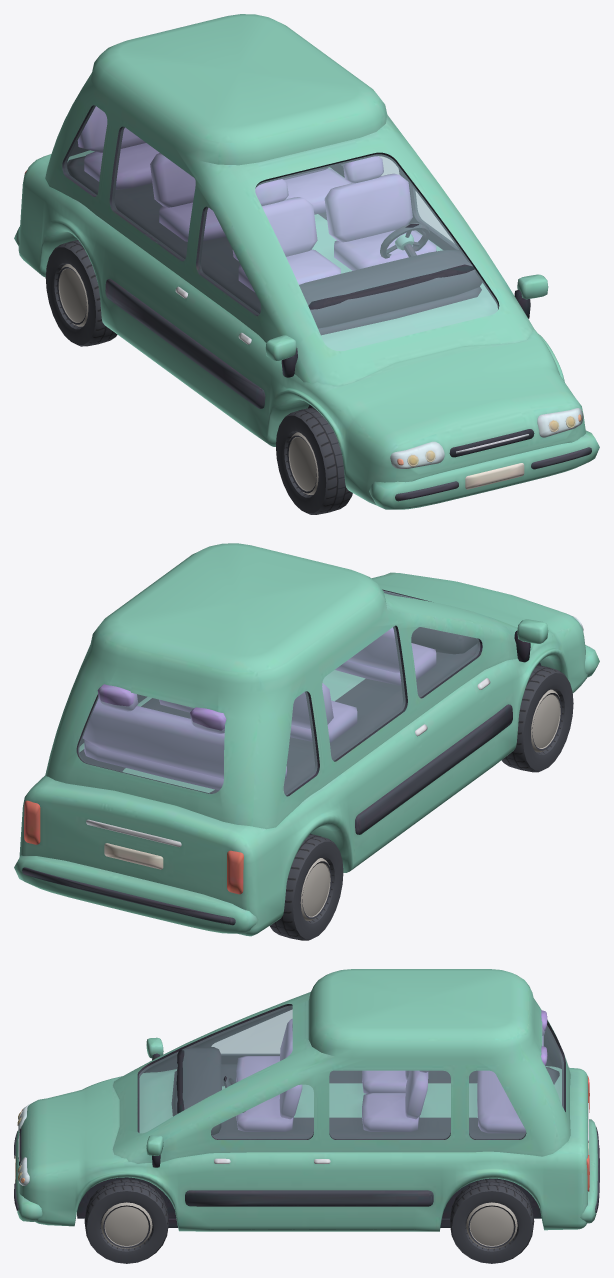
The model's file is g3-1990s-minivan.glb.
The picture shows the model from 3 angles, top to bottom: view 1: azimuth 30°, elevation 25°; view 2: azimuth 150°, elevation 25°; view 3: azimuth 270°, elevation 25°; orthographic projection. The views are drawn at different scales.
Parts seen in each view (by area): view 1: 1990s-minivan_body, 1990s-minivan_windows, 1990s-minivan_wheel_fr, 1990s-minivan_wheel_rr; view 2: 1990s-minivan_body, 1990s-minivan_windows, 1990s-minivan_wheel_rr, 1990s-minivan_wheel_fr; view 3: 1990s-minivan_body, 1990s-minivan_windows, 1990s-minivan_wheel_fl, 1990s-minivan_wheel_rl.
Boxes of the visible parts, left/top/right/bottom form: 1990s-minivan_body: left=14, top=14, right=599, bottom=509; 1990s-minivan_windows: left=64, top=105, right=498, bottom=350; 1990s-minivan_wheel_fr: left=276, top=407, right=352, bottom=514; 1990s-minivan_wheel_rr: left=45, top=240, right=117, bottom=346; 1990s-minivan_body: left=14, top=543, right=599, bottom=936; 1990s-minivan_windows: left=78, top=590, right=479, bottom=795; 1990s-minivan_wheel_rr: left=270, top=834, right=343, bottom=940; 1990s-minivan_wheel_fr: left=501, top=665, right=573, bottom=772; 1990s-minivan_body: left=14, top=969, right=599, bottom=1231; 1990s-minivan_windows: left=139, top=1006, right=563, bottom=1138; 1990s-minivan_wheel_fl: left=84, top=1179, right=168, bottom=1263; 1990s-minivan_wheel_rl: left=449, top=1179, right=534, bottom=1263.
Size of the model in its own units: 1.99 by 1.88 by 4.57.
18 materials, 5 textured.
